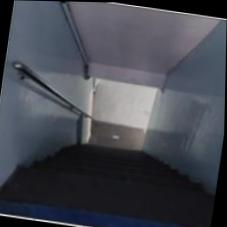Animal: (47, 127, 175, 194)
